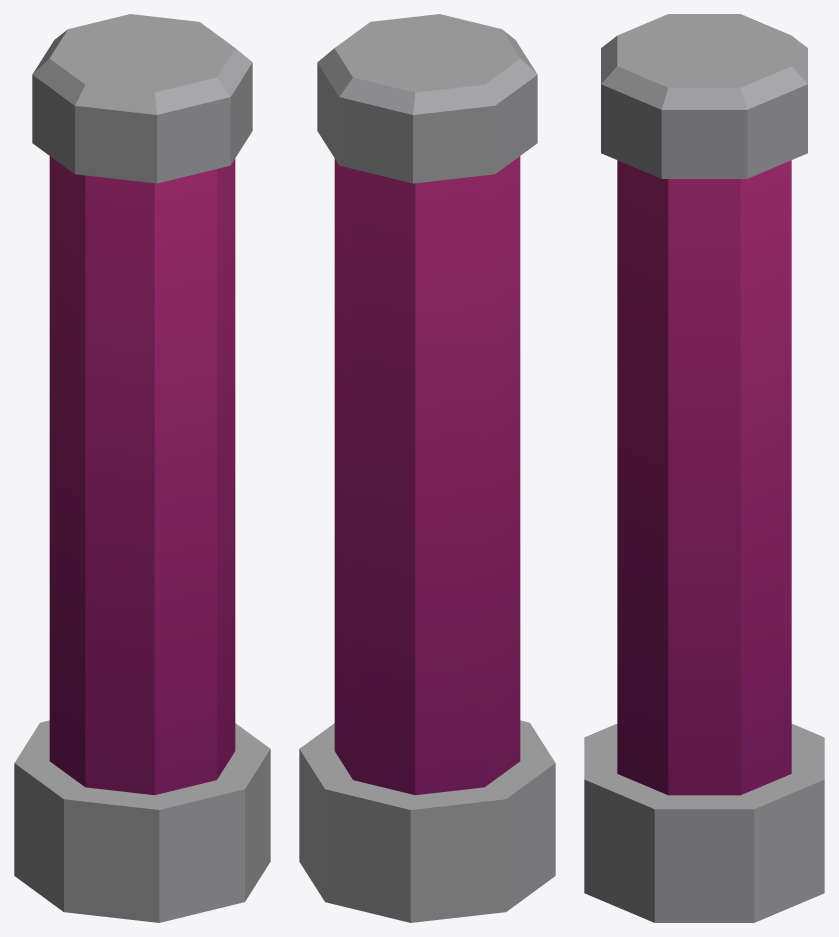
The model's file is SM_Props_Laboratory_09.fbx.
3 renders of one model, left to right at view 1: azimuth 30°, elevation 25°; view 2: azimuth 150°, elevation 25°; view 3: azimuth 270°, elevation 25°, orthographic.
Parts seen in each view (by area): view 1: SM_Props_Laboratory_09; view 2: SM_Props_Laboratory_09; view 3: SM_Props_Laboratory_09.
Part boxes in pixels (x1,y1,x2,y2): SM_Props_Laboratory_09: (14,14,270,922); SM_Props_Laboratory_09: (299,14,555,922); SM_Props_Laboratory_09: (584,14,824,922).
Bounding box in the file's own units: 0.0383 × 0.1443 × 0.0383.
